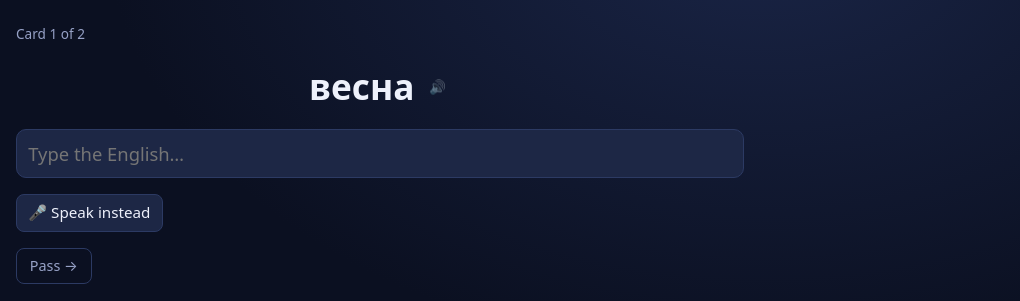
FlashcardExercise › lets the learner answer by speaking instead of typing
Click the button with class "speak-toggle" at (89, 213), box [16, 194, 163, 232]
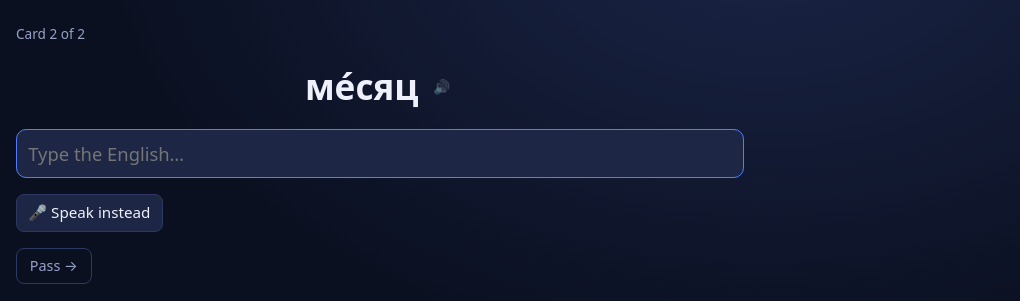
Now the text "ме́сяц" is shown, box [305, 60, 419, 113]
